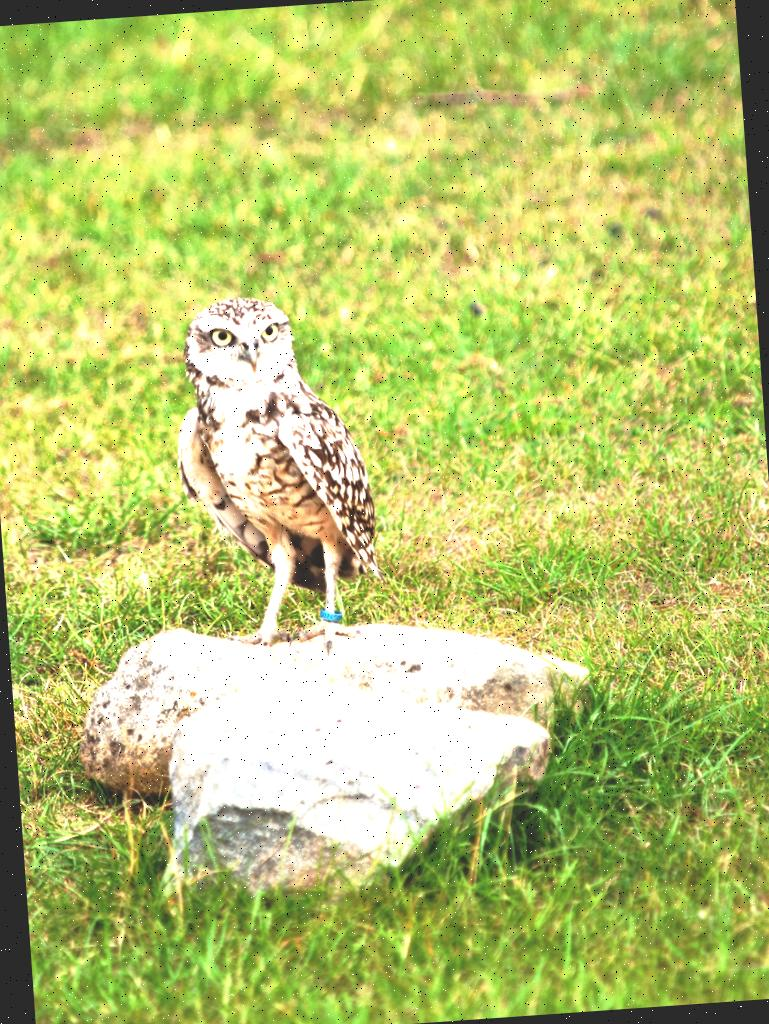Owl: (155, 297, 394, 660)
